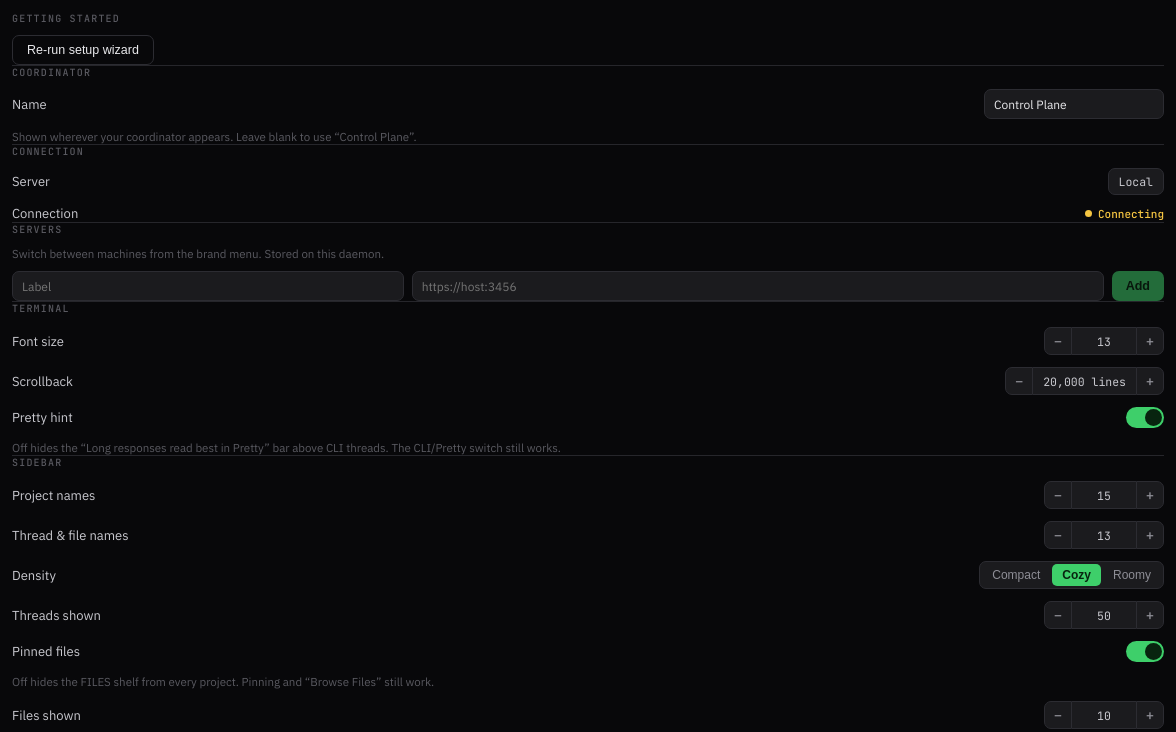
Scenario: GeneralSection — sidebar list limits › stepping the thread limit up past 50 lands on All and persists 0
Click the button "+" next to "50". click: x=1150, y=615
box: x1=1136 y1=601 x2=1164 y2=629
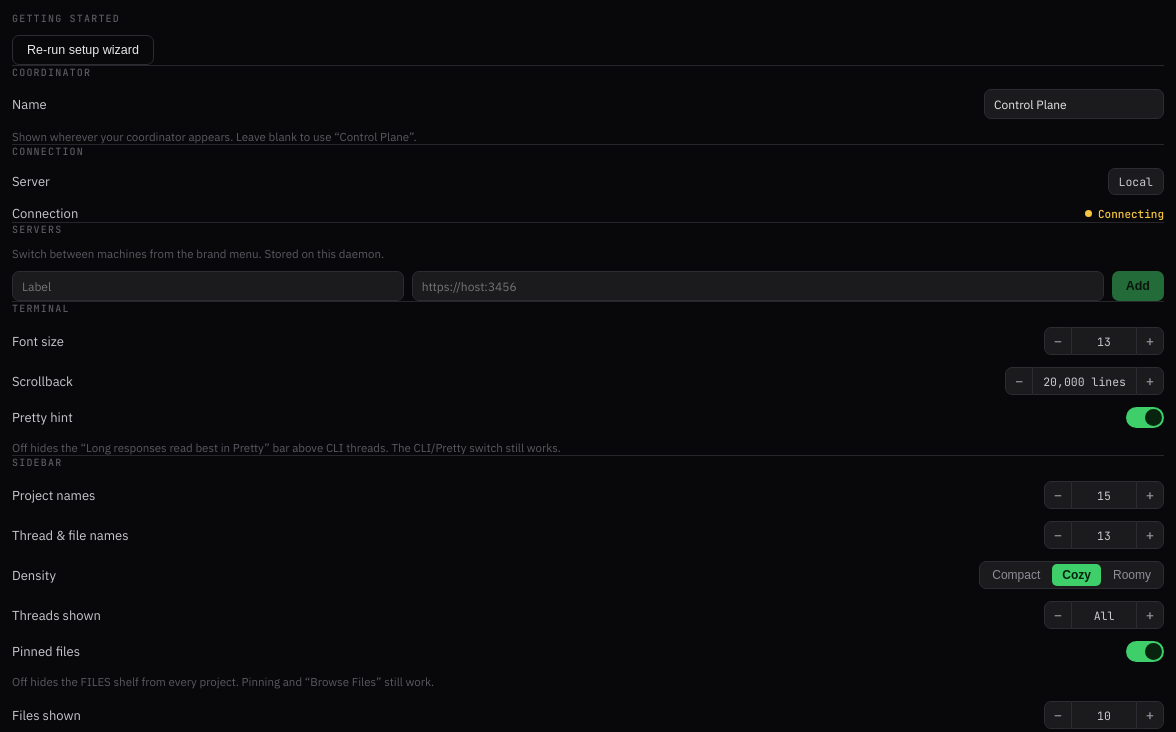
Check: the text "All" is shown, box x1=1072 y1=601 x2=1136 y2=629
